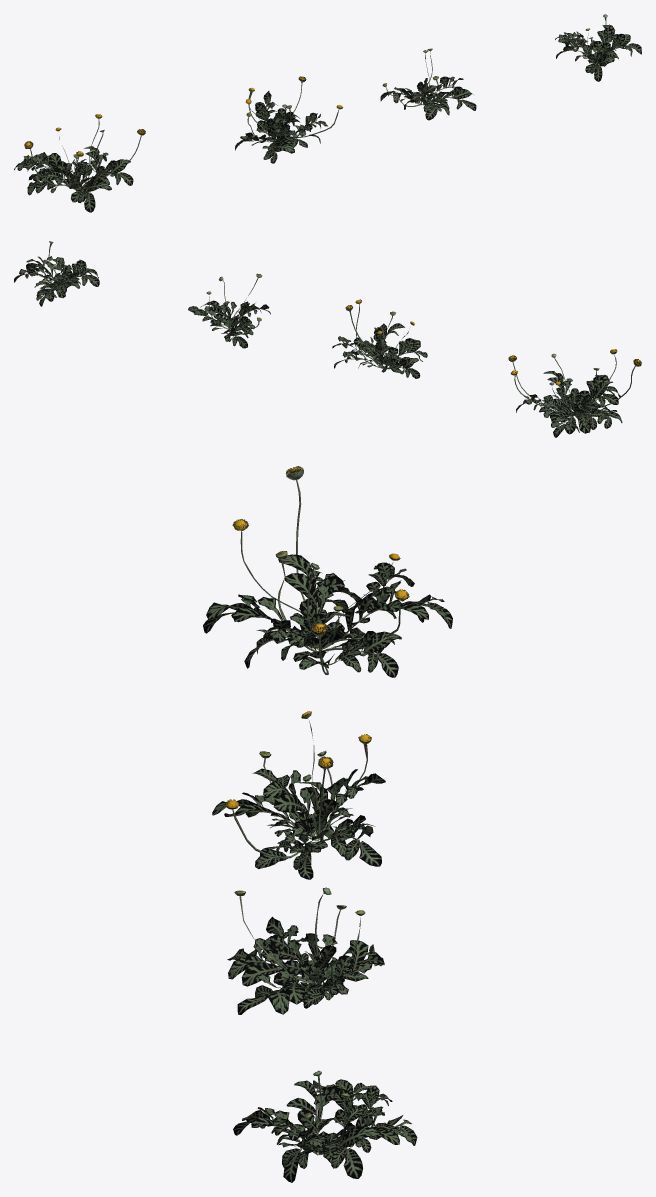
File: flower_stinkkruid.glb
The picture shows the model from 3 angles, top to bottom: view 1: azimuth 30°, elevation 25°; view 2: azimuth 150°, elevation 25°; view 3: azimuth 270°, elevation 25°; orthographic projection. The views are drawn at different scales.
Parts seen in each view (by area): view 1: flower_stinkkruid_a_LOD0; view 2: flower_stinkkruid_a_LOD0; view 3: flower_stinkkruid_a_LOD0.
Part boxes in pixels (box(x1,y1,x2,y2)): flower_stinkkruid_a_LOD0: box(14, 14, 641, 212); flower_stinkkruid_a_LOD0: box(14, 241, 641, 437); flower_stinkkruid_a_LOD0: box(203, 466, 452, 1182).
Bounding box in the file's own units: 1.71 × 0.1782 × 0.3004.
Materials: 1 (1 with a texture image).
